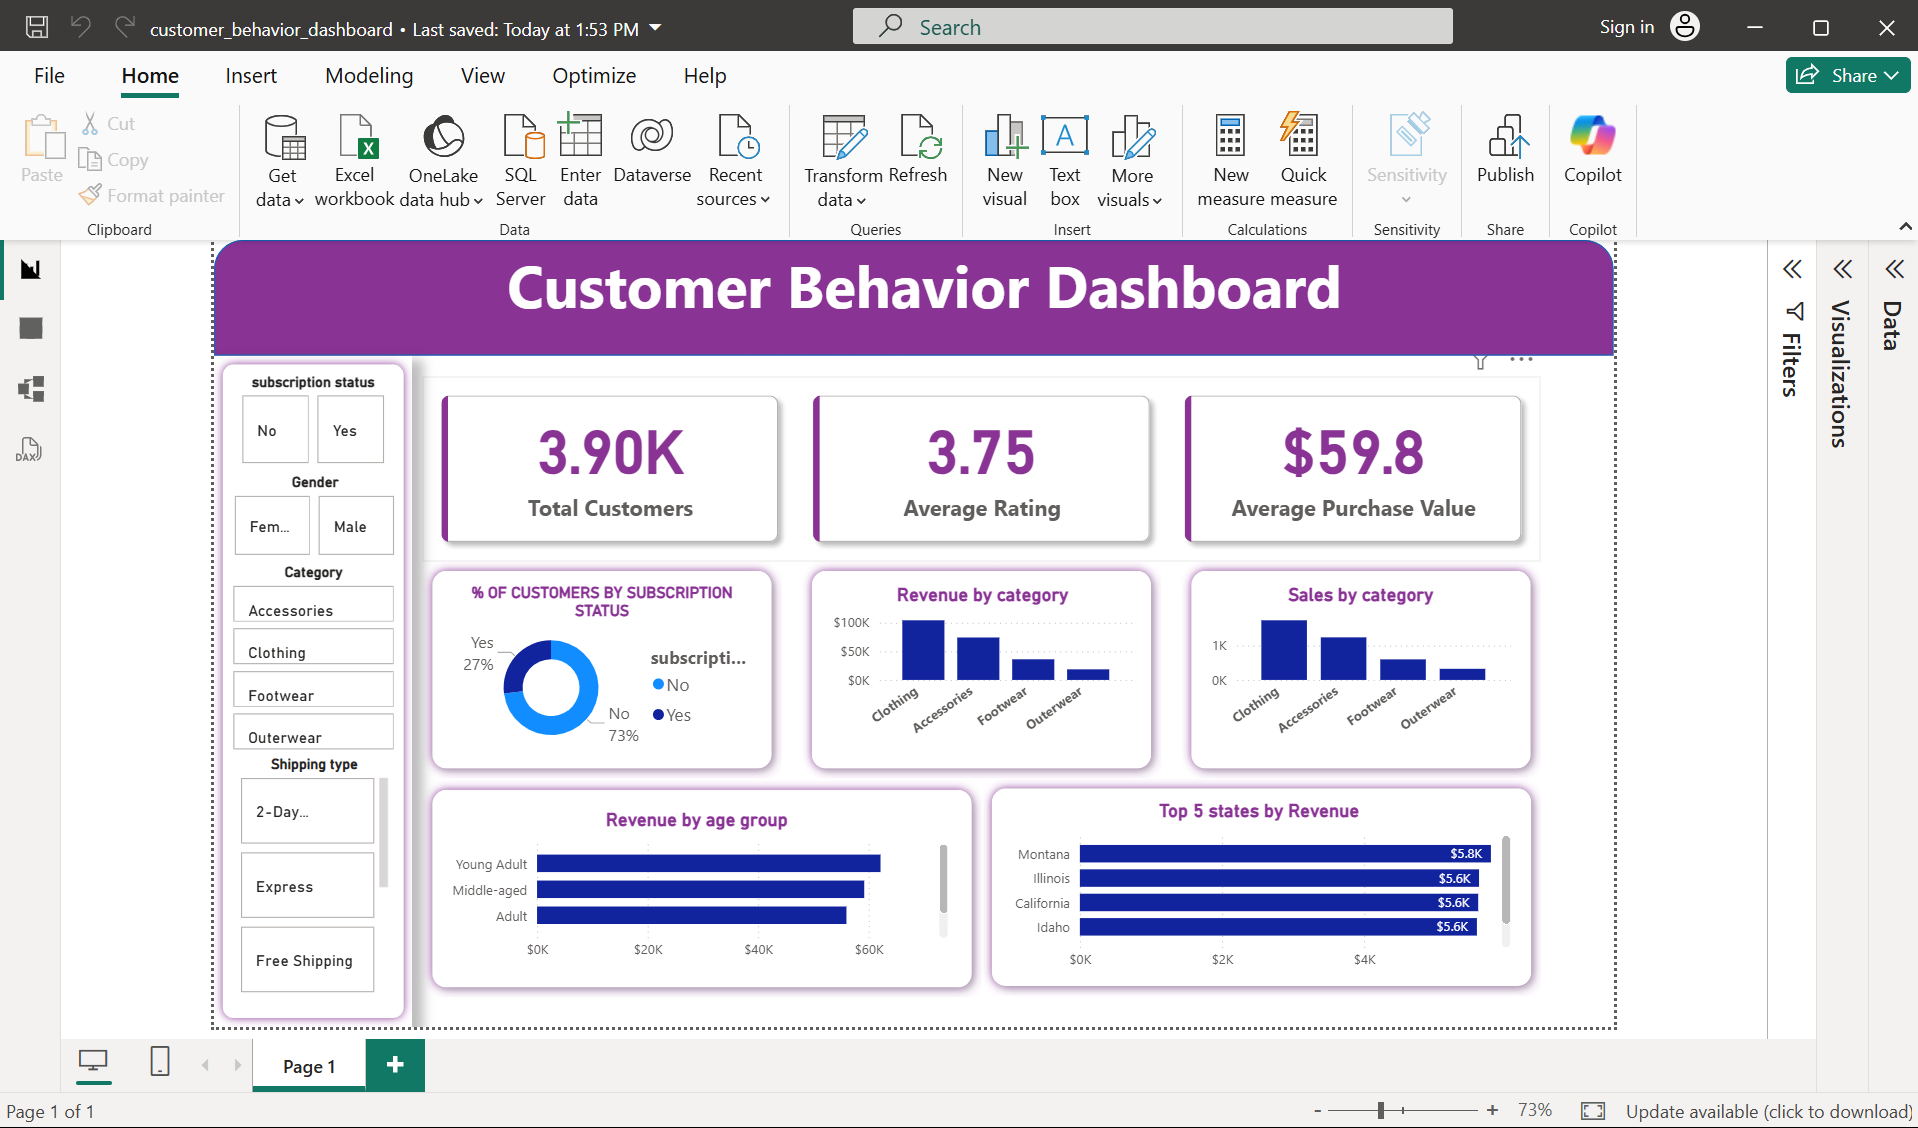

The page's visual inventory and layout, read from the dashboard file:
{"tool":"powerbi","page":{"name":"Page 1","canvas":[1280,720],"ordinal":0},"visuals":[{"type":"cardVisual","fields":{"Data":["ecommerce_db customer_behavior.number of customer","ecommerce_db customer_behavior.avg rating","ecommerce_db customer_behavior.average purchase amt"]},"box":[190.5,124.2,1023.2,168.9],"z":0},{"type":"shape","box":[0,0,1280.5,105.8],"z":1000},{"type":"textbox","box":[227.4,0,844.7,86.8],"z":2000},{"type":"shape","box":[190.5,293.2,328.4,198.9],"z":3000},{"type":"donutChart","title":"% OF CUSTOMERS BY SUBSCRIPTION STATUS","fields":{"Category":["ecommerce_db customer_behavior.subscription_status"],"Y":["CountNonNull(ecommerce_db customer_behavior.customer_id)"]},"box":[211.1,313.7,287.4,157.9],"z":4000},{"type":"shape","box":[537.9,293.2,328.4,198.9],"z":5000},{"type":"shape","box":[885.3,293.2,328.4,198.9],"z":6000},{"type":"clusteredColumnChart","title":"Revenue by category ","fields":{"Y":["Sum(ecommerce_db customer_behavior.purchase_amount)"],"Category":["ecommerce_db customer_behavior.category"]},"box":[561.6,313.7,284.2,157.9],"z":7000},{"type":"clusteredColumnChart","title":"Sales by category","fields":{"Y":["CountNonNull(ecommerce_db customer_behavior.customer_id)"],"Category":["ecommerce_db customer_behavior.category"]},"box":[907.4,313.7,284.2,157.9],"z":8000},{"type":"shape","box":[0,105.8,181.6,614.2],"z":9000},{"type":"advancedSlicerVisual","title":"subscription status","fields":{"Values":["ecommerce_db customer_behavior.subscription_status"]},"box":[20.5,121.6,140.5,86.8],"z":10000},{"type":"advancedSlicerVisual","title":"Gender","fields":{"Values":["ecommerce_db customer_behavior.gender"]},"box":[14.2,214.7,157.9,78.9],"z":11000},{"type":"advancedSlicerVisual","title":"Category","fields":{"Values":["ecommerce_db customer_behavior.category"]},"box":[12.6,296.8,157.9,175.3],"z":11001},{"type":"clusteredBarChart","fields":{"Y":["Sum(ecommerce_db customer_behavior.purchase_amount)"],"Category":["ecommerce_db customer_behavior.age_group"]},"box":[211.6,511.6,262.1,164.2],"z":11002},{"type":"shape","box":[191.1,494.2,511.6,198.9],"z":11003},{"type":"advancedSlicerVisual","title":"Shipping type","fields":{"Values":["ecommerce_db customer_behavior.shipping_type"]},"box":[18.9,472.1,145.3,221.1],"z":11004},{"type":"clusteredBarChart","title":"Revenue by age group","fields":{"Y":["Sum(ecommerce_db customer_behavior.purchase_amount)"],"Category":["ecommerce_db customer_behavior.age_group"]},"box":[206.8,519.5,469,146.8],"z":11005},{"type":"shape","box":[702.6,492.6,511.6,198.9],"z":11006},{"type":"clusteredBarChart","title":"Top 5 states by Revenue","fields":{"Y":["Sum(ecommerce_db customer_behavior.purchase_amount)"],"Category":["ecommerce_db customer_behavior.location"]},"box":[722.2,511.2,469.1,163.9],"z":11007}]}

Visuals, with their boxes on the page's 1280x720 design canvas (x1, y1, x2, y2). These are canvas units, not pixel positions in the 1918x1128 screenshot, which may show the page scaled, cropped or inside an application window:
cardVisual - ecommerce_db customer_behavior.number of customer x ecommerce_db customer_behavior.avg rating: crop(190, 124, 1214, 293)
shape: crop(0, 0, 1280, 106)
textbox: crop(227, 0, 1072, 87)
shape: crop(190, 293, 519, 492)
"% OF CUSTOMERS BY SUBSCRIPTION STATUS" donutChart: crop(211, 314, 498, 472)
shape: crop(538, 293, 866, 492)
shape: crop(885, 293, 1214, 492)
"Revenue by category " clusteredColumnChart: crop(562, 314, 846, 472)
"Sales by category" clusteredColumnChart: crop(907, 314, 1192, 472)
shape: crop(0, 106, 182, 720)
"subscription status" advancedSlicerVisual: crop(20, 122, 161, 208)
"Gender" advancedSlicerVisual: crop(14, 215, 172, 294)
"Category" advancedSlicerVisual: crop(13, 297, 170, 472)
clusteredBarChart - Sum(ecommerce_db customer_behavior.purchase_amount) x ecommerce_db customer_behavior.age_group: crop(212, 512, 474, 676)
shape: crop(191, 494, 703, 693)
"Shipping type" advancedSlicerVisual: crop(19, 472, 164, 693)
"Revenue by age group" clusteredBarChart: crop(207, 520, 676, 666)
shape: crop(703, 493, 1214, 692)
"Top 5 states by Revenue" clusteredBarChart: crop(722, 511, 1191, 675)
